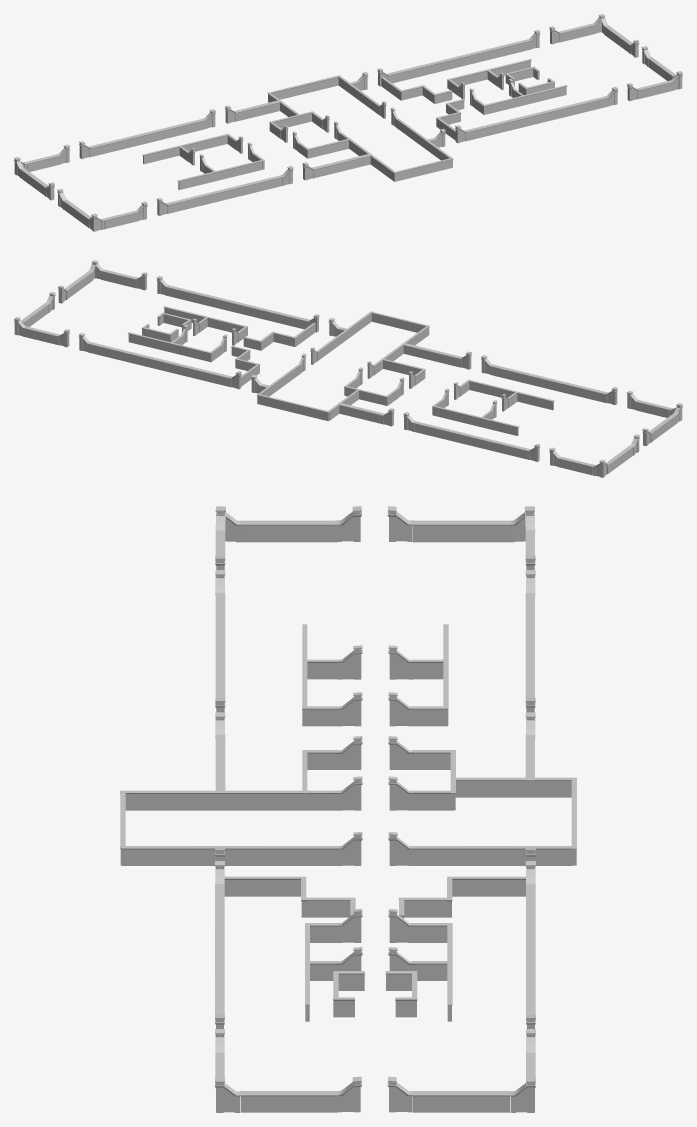
File: Tembok.fbx
The picture shows the model from 3 angles, top to bottom: view 1: azimuth 30°, elevation 25°; view 2: azimuth 150°, elevation 25°; view 3: azimuth 270°, elevation 25°; orthographic projection. The views are drawn at different scales.
Visible parts, largest first — view 1: Tembok, Gerbang, I-Benteng.018, I-Benteng.001, I-Benteng.028, I-Benteng.012, I-Benteng.015, I-Benteng.014, I-Benteng.016, I-Benteng.013, I-Benteng.005, I-Benteng.008; view 2: Tembok, Gerbang, I-Benteng.018, I-Benteng.028, I-Benteng.001, I-Benteng.012, I-Benteng.014, I-Benteng.015, I-Benteng.016, I-Benteng.013, I-Benteng.008, I-Benteng.005; view 3: Tembok, Gerbang, I-Benteng.016, I-Benteng.014, I-Benteng.013, I-Benteng.011, I-Benteng.032, I-Benteng.031, Gerbang Kepatihan.003, Gerbang Kepatihan.006, Gerbang Kepatihan.005, Gerbang Kepatihan.007 (+5 smaller).
Boxes of the visible parts, x1,y1,x2,y2 form: Tembok: (14,14,682,231); Gerbang: (20,25,675,226); I-Benteng.018: (447,59,567,114); I-Benteng.001: (177,160,262,189); I-Benteng.028: (142,133,227,164); I-Benteng.012: (267,75,340,101); I-Benteng.015: (394,158,452,181); I-Benteng.014: (397,118,453,160); I-Benteng.016: (340,132,396,181); I-Benteng.013: (338,76,380,113); I-Benteng.005: (307,139,348,158); I-Benteng.008: (269,111,312,130); Tembok: (14,260,682,477); Gerbang: (21,271,676,472); I-Benteng.018: (128,306,248,361); I-Benteng.028: (432,406,519,435); I-Benteng.001: (469,380,554,410); I-Benteng.012: (257,394,329,421); I-Benteng.014: (316,311,371,359); I-Benteng.015: (371,311,428,332); I-Benteng.016: (373,325,429,373); I-Benteng.013: (258,364,299,396); I-Benteng.008: (344,386,387,405); I-Benteng.005: (383,359,425,377); Tembok: (215,506,535,1112); Gerbang: (240,506,510,1112); I-Benteng.016: (120,790,339,810); I-Benteng.014: (120,846,339,865); I-Benteng.013: (411,846,571,865); I-Benteng.011: (455,777,574,797); I-Benteng.032: (224,876,305,896); I-Benteng.031: (447,876,525,896); Gerbang Kepatihan.003: (336,645,414,679); Gerbang Kepatihan.006: (337,776,415,810); Gerbang Kepatihan.005: (336,736,415,769); Gerbang Kepatihan.007: (337,832,412,865).
Size of the model in its own units: 12760 by 332 by 4284.
